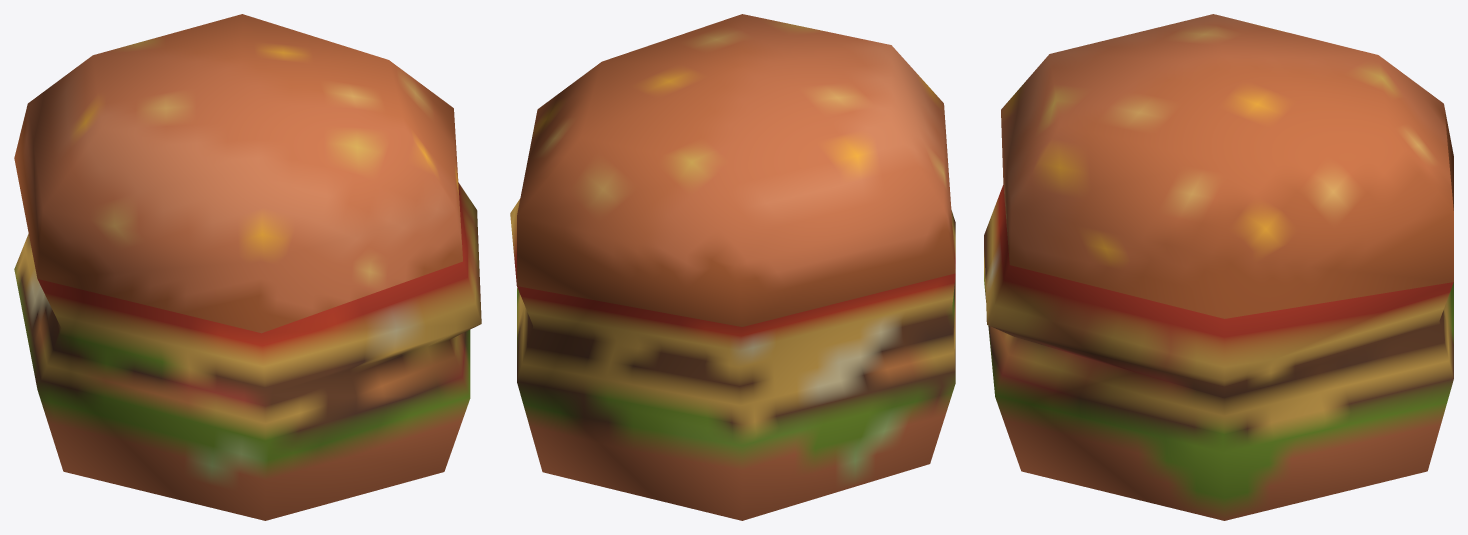
File: Pixel_Misc_S_0010.fbx
3 renders of one model, left to right at view 1: azimuth 30°, elevation 25°; view 2: azimuth 150°, elevation 25°; view 3: azimuth 270°, elevation 25°, orthographic.
Parts seen in each view (by area): view 1: Pixel_Misc_S_0010; view 2: Pixel_Misc_S_0010; view 3: Pixel_Misc_S_0010.
Part boxes in pixels (bbox=[...]): Pixel_Misc_S_0010: bbox=[14, 14, 481, 520]; Pixel_Misc_S_0010: bbox=[510, 14, 955, 520]; Pixel_Misc_S_0010: bbox=[984, 14, 1453, 520].
Bounding box in the file's own units: 20.23 × 15.54 × 18.38.
